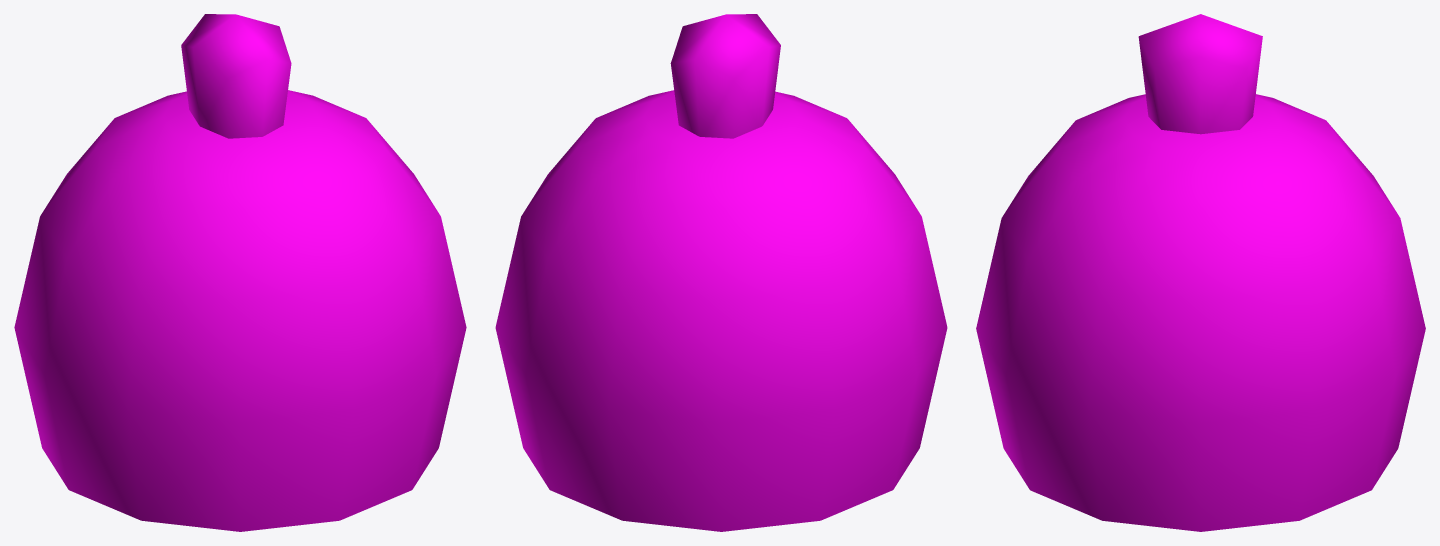
The model's file is pineapple_half_meshCollider.fbx.
3 renders of one model, left to right at view 1: azimuth 30°, elevation 25°; view 2: azimuth 150°, elevation 25°; view 3: azimuth 270°, elevation 25°, orthographic.
Visible parts, largest first — view 1: foods_pineapple_half_meshCollider; view 2: foods_pineapple_half_meshCollider; view 3: foods_pineapple_half_meshCollider.
Boxes of the visible parts, bbox=[...] form: foods_pineapple_half_meshCollider: bbox=[14, 14, 466, 531]; foods_pineapple_half_meshCollider: bbox=[495, 14, 947, 531]; foods_pineapple_half_meshCollider: bbox=[976, 14, 1425, 531].
Size of the model in its own units: 12.1 by 12.84 by 12.1.
